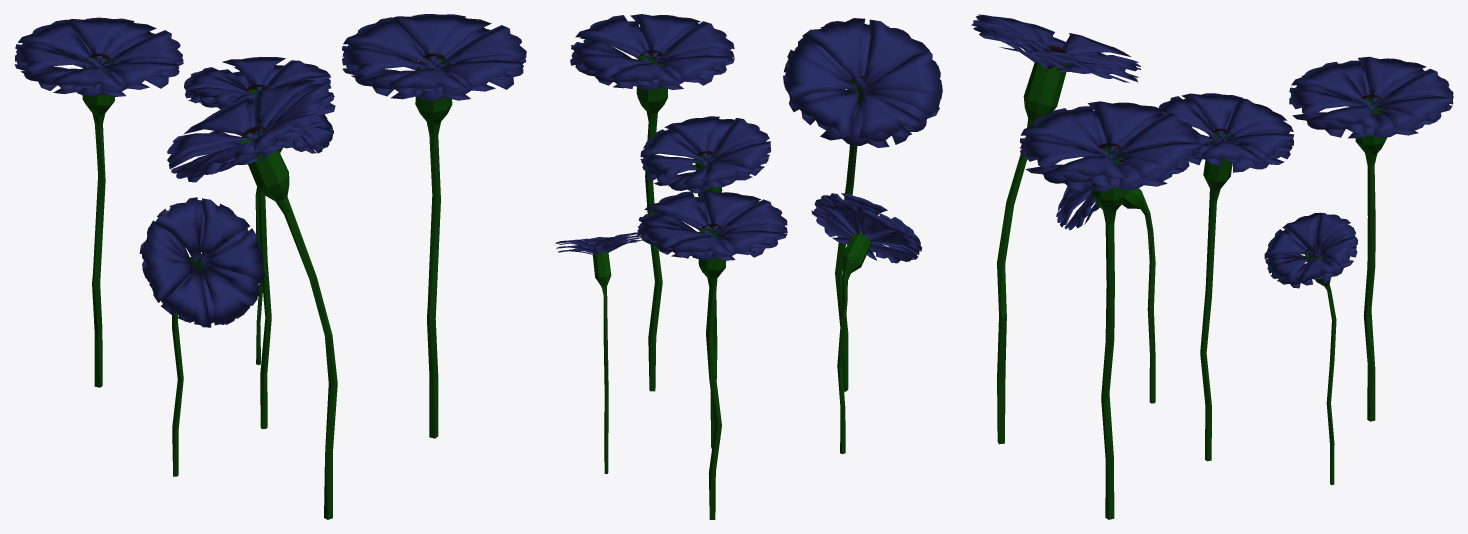
File: SM_Cornflower_001_LOD1.fbx
3 renders of one model, left to right at view 1: azimuth 30°, elevation 25°; view 2: azimuth 150°, elevation 25°; view 3: azimuth 270°, elevation 25°, orthographic. The views are drawn at different scales.
Parts seen in each view (by area): view 1: Circle; view 2: Circle; view 3: Circle.
Boxes of the visible parts, x1,y1,x2,y2 form: Circle: (14,14,526,519); Circle: (555,14,942,519); Circle: (971,14,1453,519).
Bounding box in the file's own units: 27.99 × 29.97 × 31.98.
